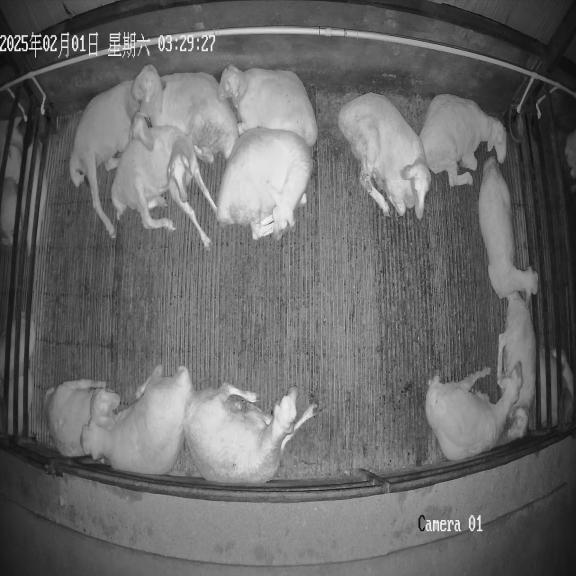lying: (183, 384, 317, 483), (69, 80, 153, 235), (111, 126, 216, 248), (82, 367, 193, 475), (338, 93, 431, 218), (216, 128, 312, 240), (133, 65, 239, 163), (425, 363, 521, 460), (478, 157, 538, 302), (219, 65, 318, 146), (419, 94, 506, 186), (45, 379, 120, 456), (498, 292, 537, 439)
